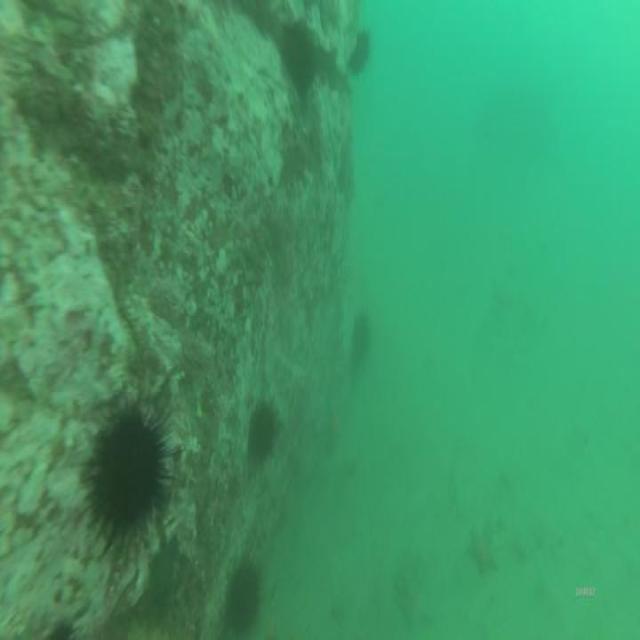echinus: (92, 417, 166, 534), (225, 563, 259, 629), (283, 24, 313, 92), (250, 396, 276, 456), (351, 30, 369, 77)
